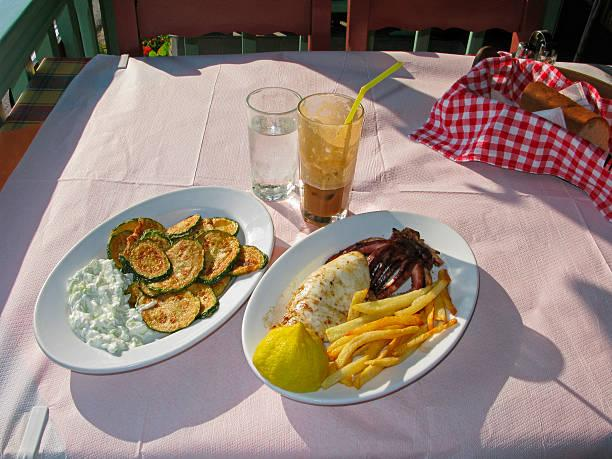Braised Crucian Carp: (241, 209, 478, 407), (29, 185, 272, 375)
